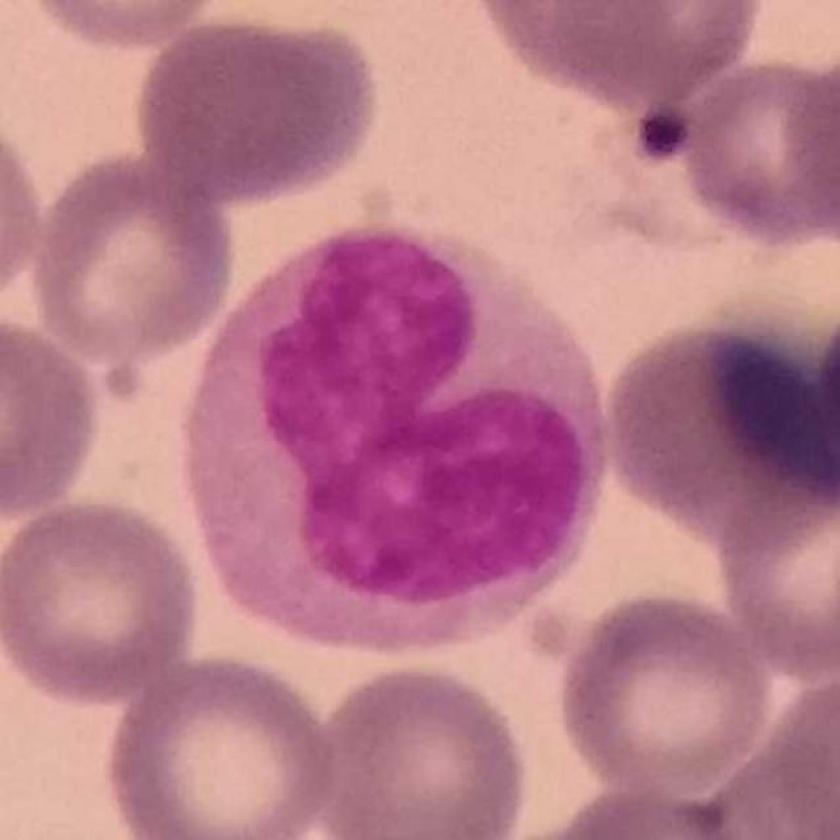monocyte: (187, 216, 614, 664)
